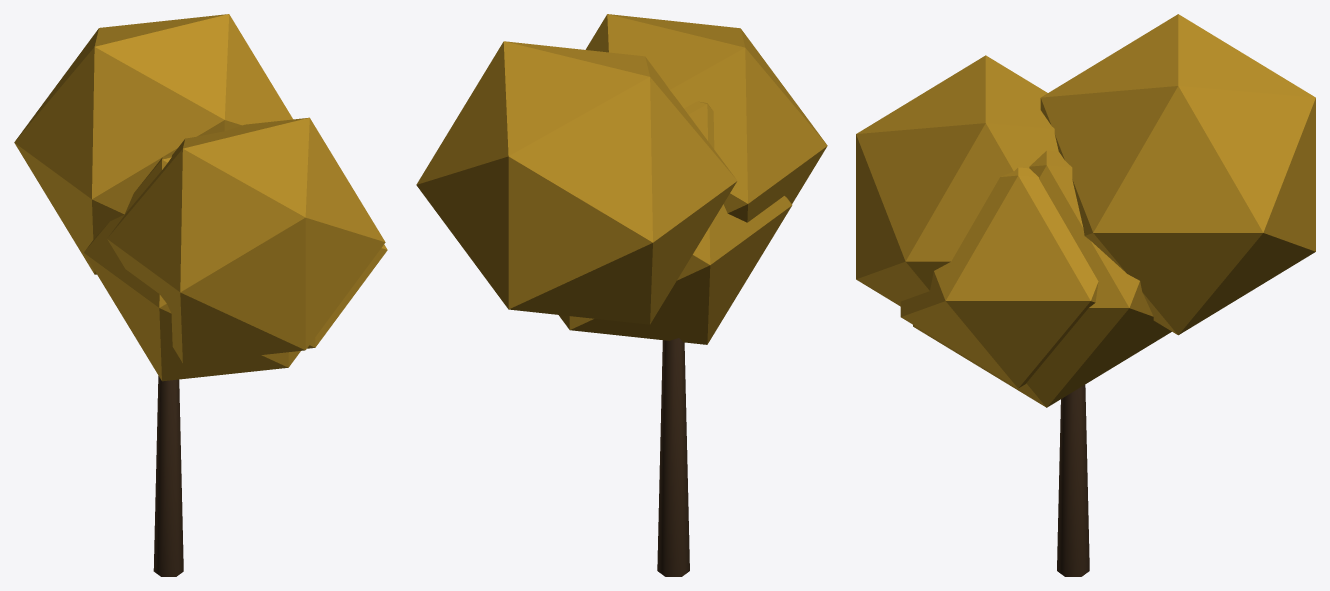
File: ipe_amarelo.glb
The picture shows the model from 3 angles, left to right: view 1: azimuth 30°, elevation 25°; view 2: azimuth 150°, elevation 25°; view 3: azimuth 270°, elevation 25°; orthographic projection. The views are drawn at different scales.
Parts seen in each view (by area): view 1: ipe_amarelo_liso; view 2: ipe_amarelo_liso; view 3: ipe_amarelo_liso.
Boxes of the visible parts, x1=… form: ipe_amarelo_liso: x1=14, y1=14, x2=387, y2=576; ipe_amarelo_liso: x1=416, y1=14, x2=827, y2=576; ipe_amarelo_liso: x1=856, y1=14, x2=1315, y2=576.
Bounding box in the file's own units: 3.51 × 7.29 × 5.59.
